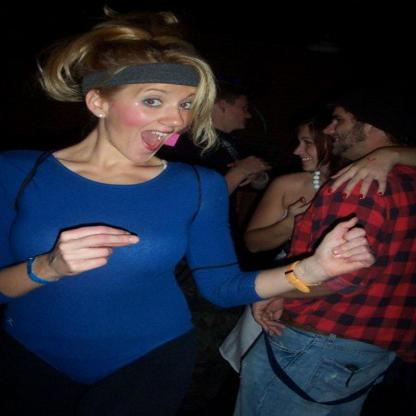face: (112, 74, 202, 166), (324, 97, 375, 155), (295, 125, 327, 170), (229, 93, 256, 130)
